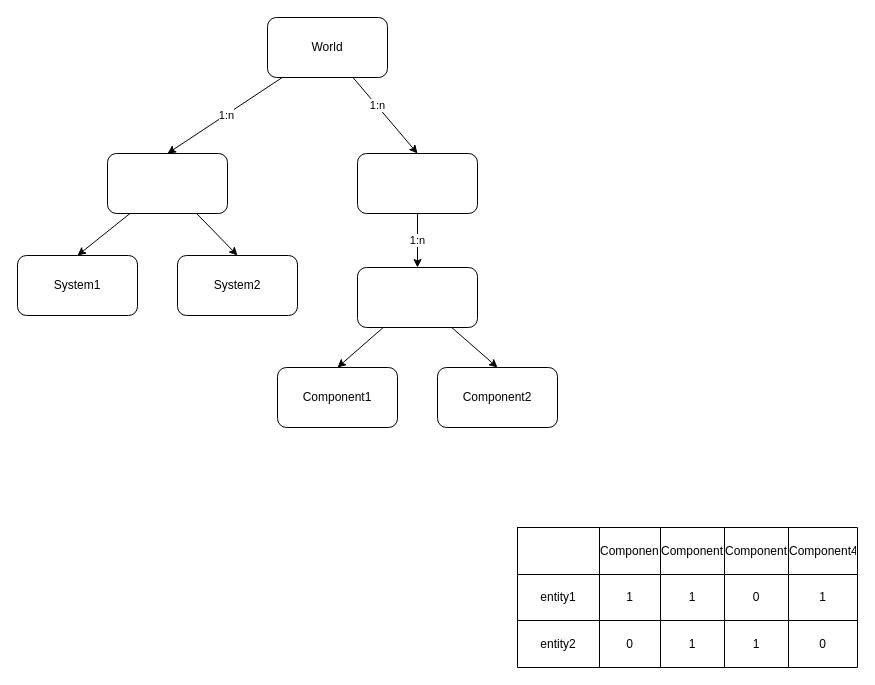
The diagram is 875 pixels wide and 685 high, and some of its shapes have lost their labels. Each missing label, with the box of its shape:
Component: (356, 266, 478, 328)
Entity: (356, 152, 478, 214)
System: (106, 152, 228, 214)
